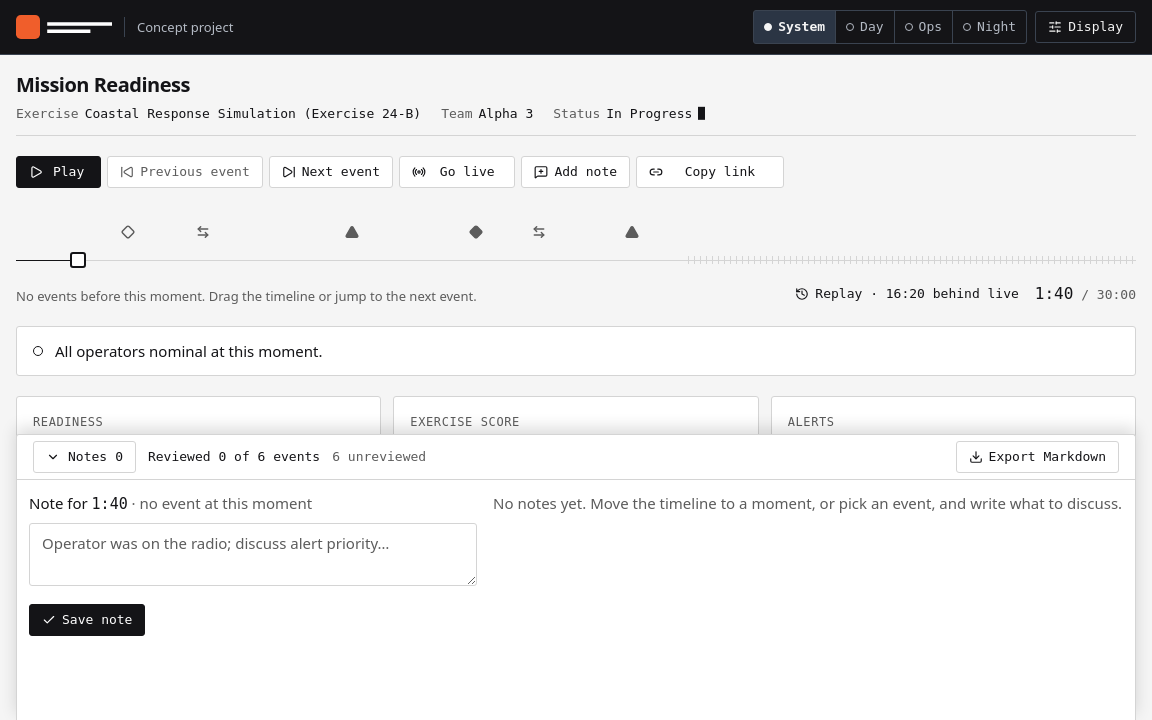
Test: composer › holds the moment from the first keystroke, even while the clock moves
The width and height of the screenshot is (1152, 720).
Type "starting" into the text box named "Note" at coordinates (253, 555), box x1=29 y1=524 x2=477 y2=586
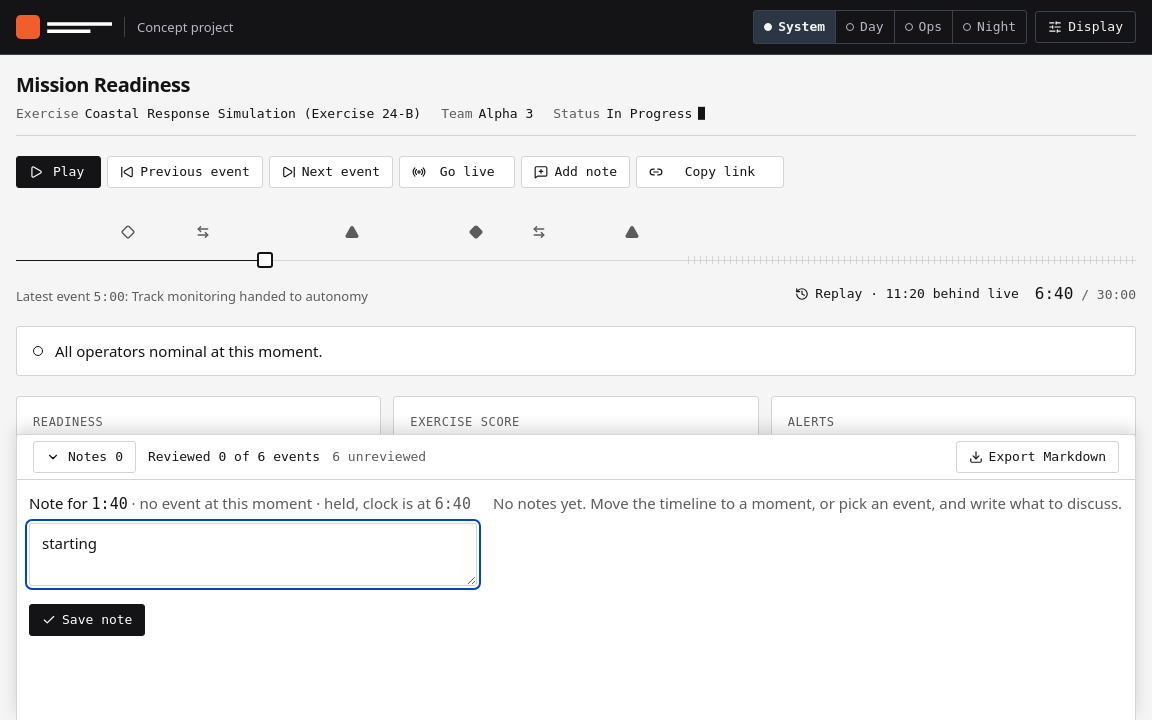
Expected: the text "Note for" shows "1:40", x1=92 y1=495 x2=128 y2=513
Result: the text "· held, clock is at 6:40" is shown at x1=312 y1=493 x2=471 y2=513
Click the button "Save note" at coordinates (87, 620), box x1=29 y1=604 x2=146 y2=636
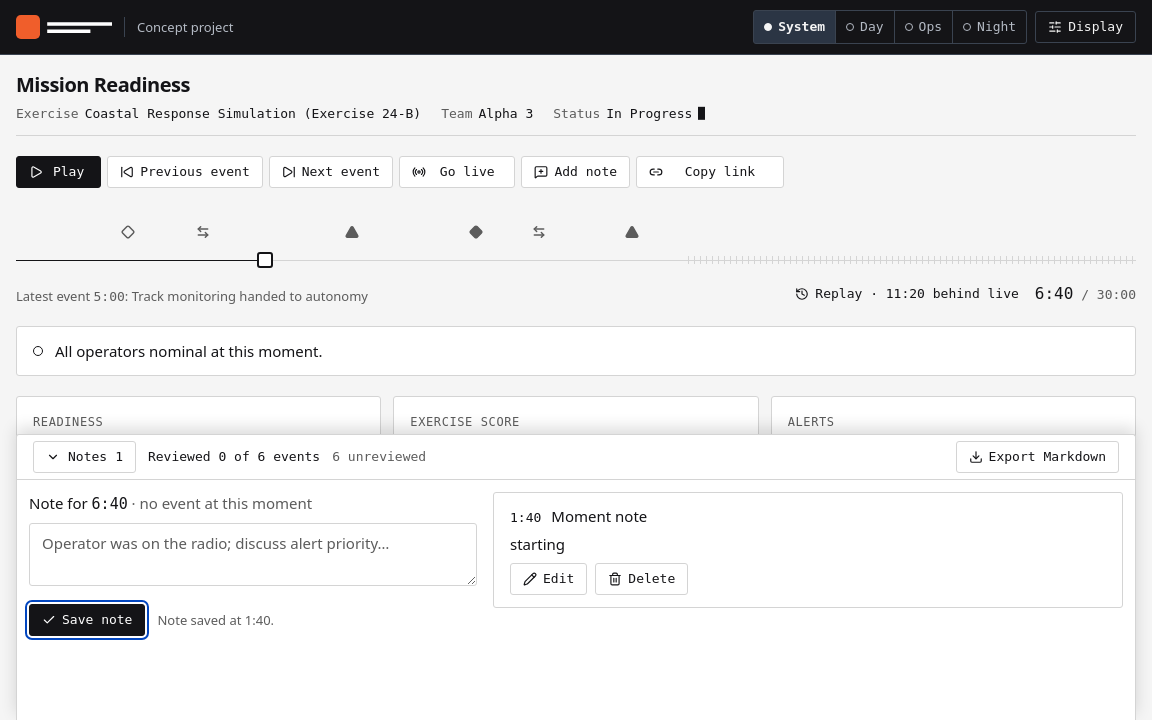
Result: the button with aria-label "Go to 1:40 on the timeline" is shown at x1=510 y1=505 x2=647 y2=529
